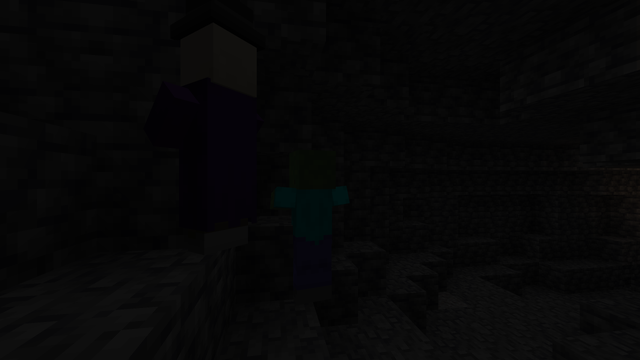sorcieres: (171, 11, 254, 258)
zombies: (288, 153, 337, 310)
